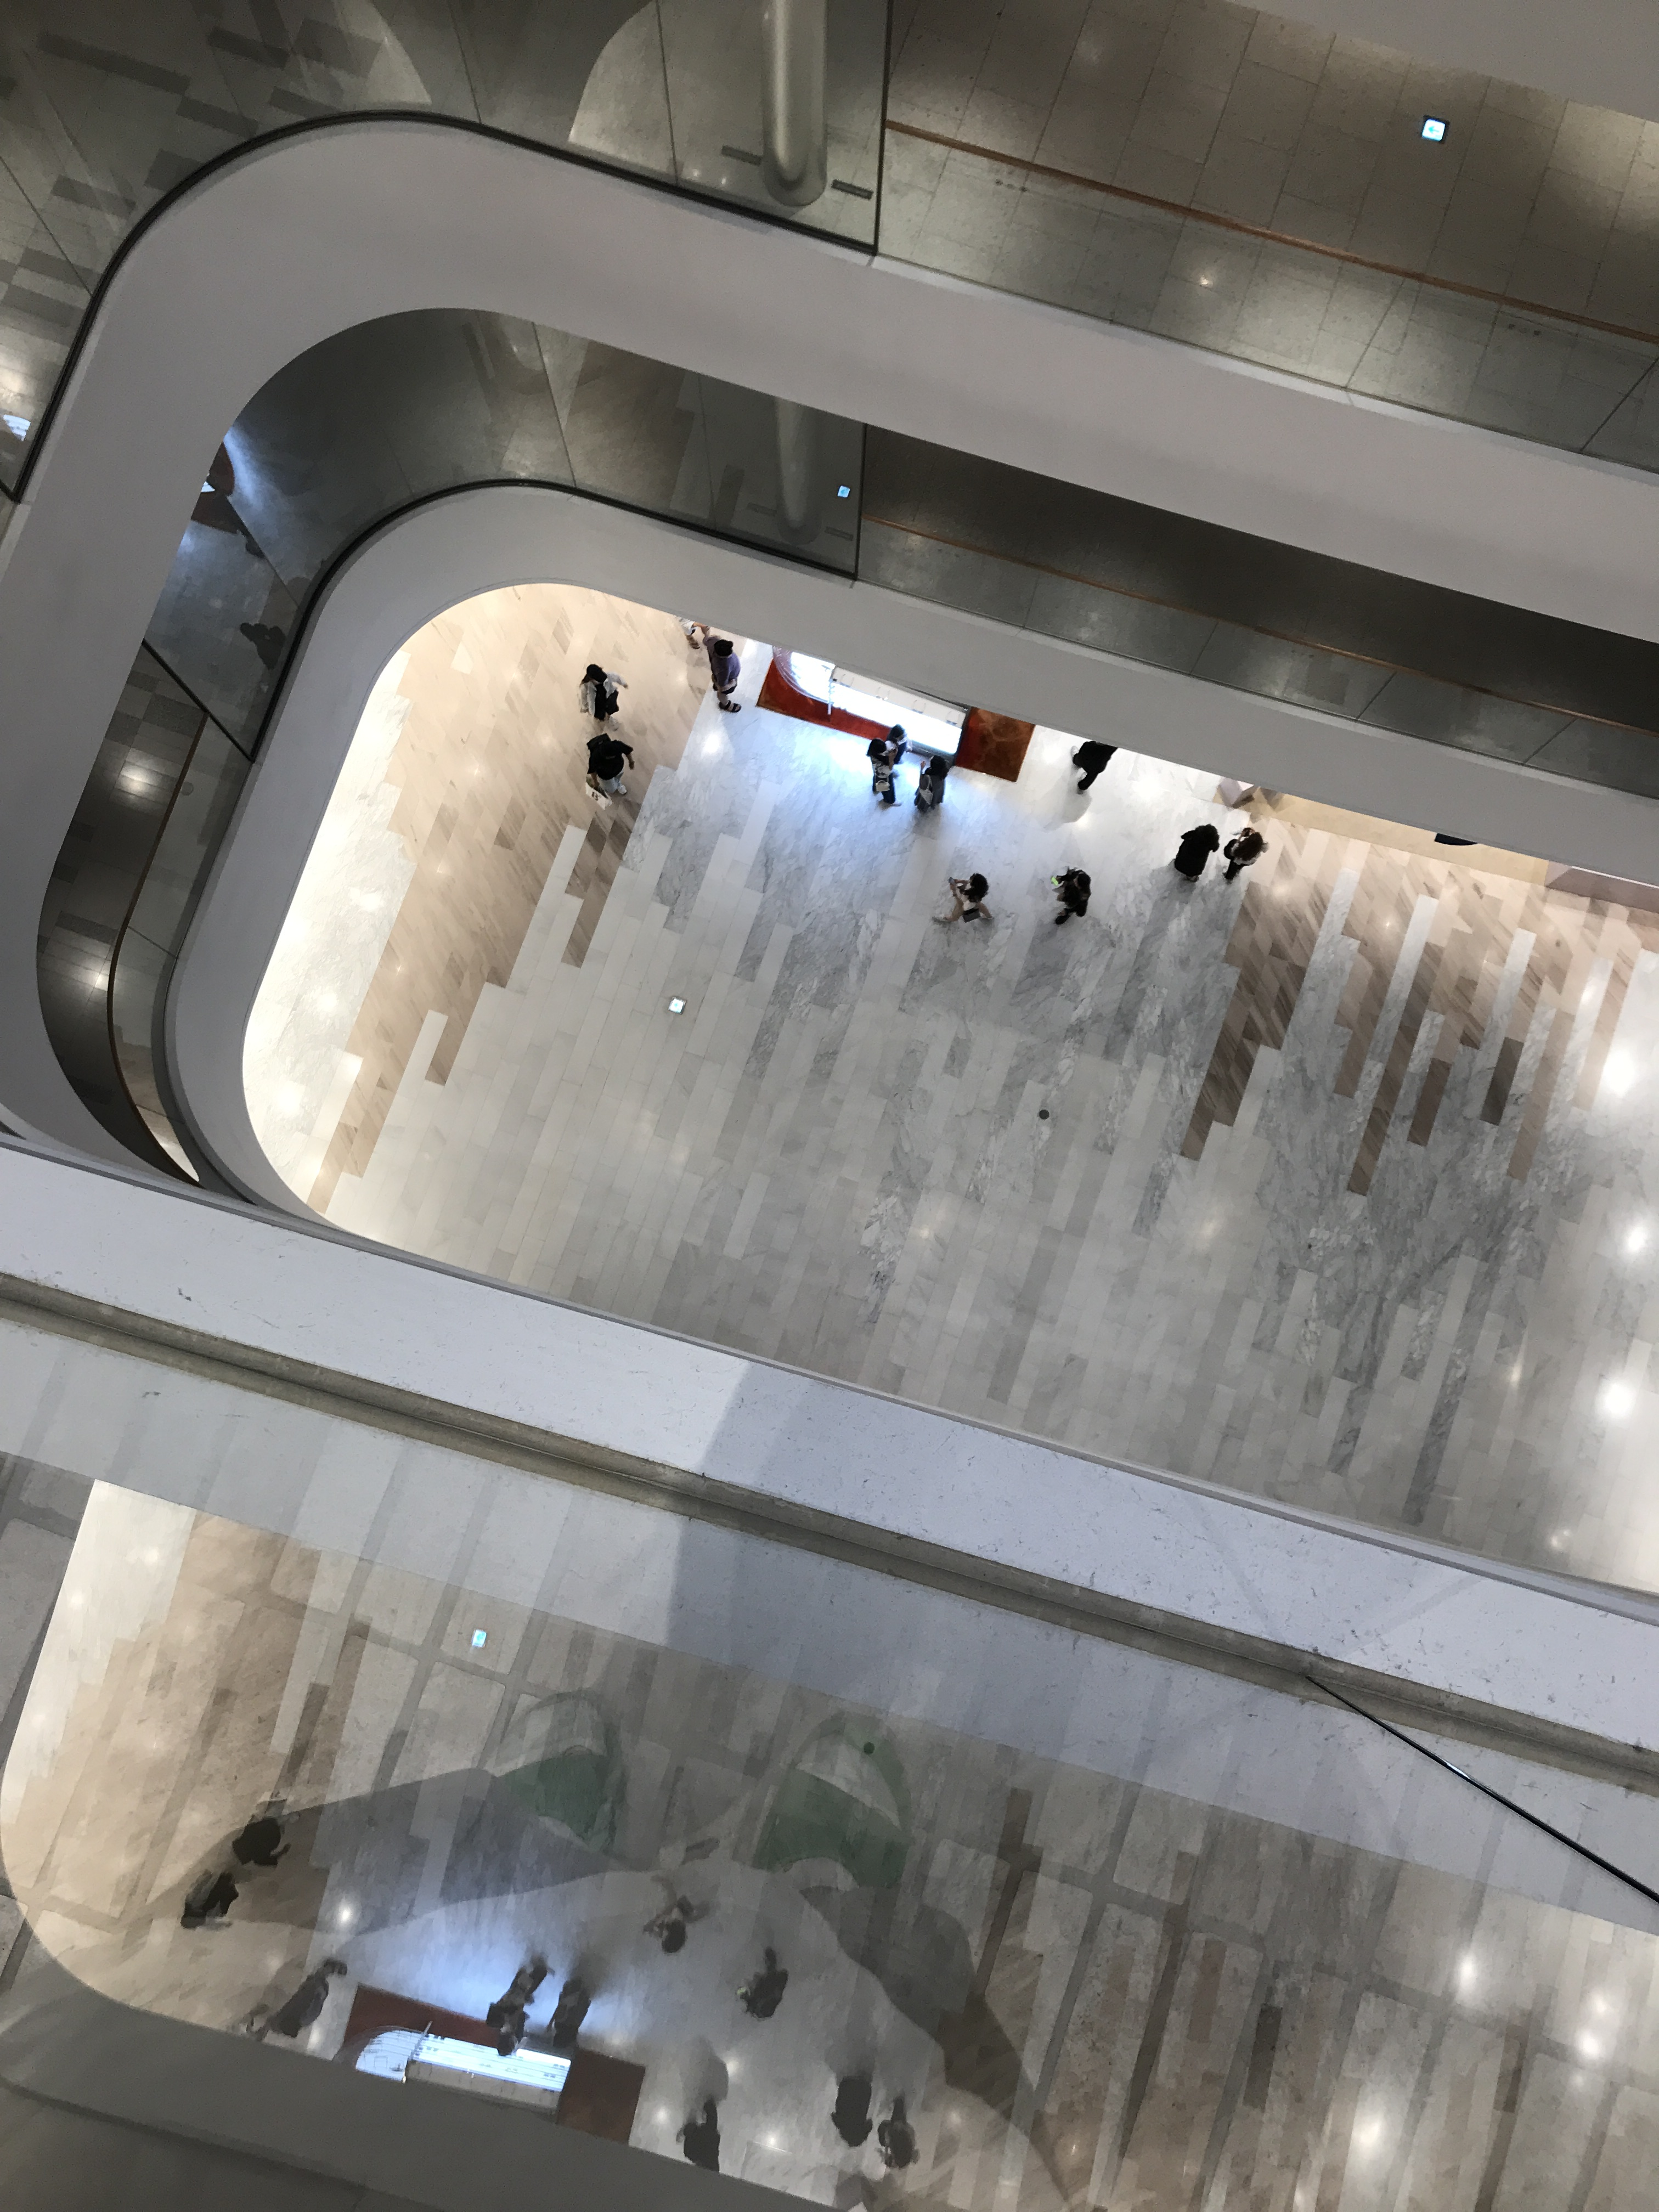person: (583, 733, 633, 808), (930, 874, 993, 932), (578, 664, 627, 735), (1175, 821, 1218, 891), (1218, 827, 1269, 889), (703, 635, 742, 713), (1045, 866, 1090, 929), (909, 750, 954, 816), (1074, 740, 1120, 797), (867, 739, 899, 808), (884, 724, 911, 777)
